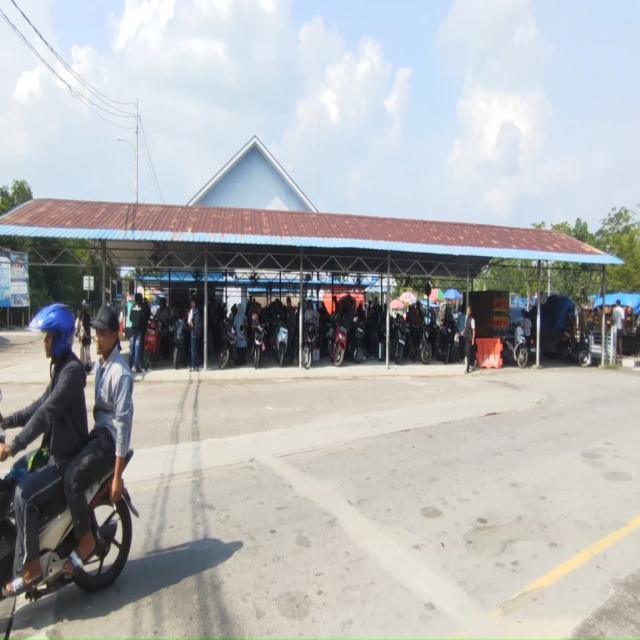Golongan II: (0, 393, 139, 600), (502, 325, 528, 369), (143, 318, 163, 371), (328, 315, 347, 366), (562, 334, 590, 366), (219, 321, 236, 370), (438, 323, 456, 364), (302, 321, 317, 369), (350, 317, 365, 364), (274, 319, 289, 366), (395, 316, 409, 365), (173, 318, 186, 370), (252, 322, 265, 370), (419, 323, 432, 364)
